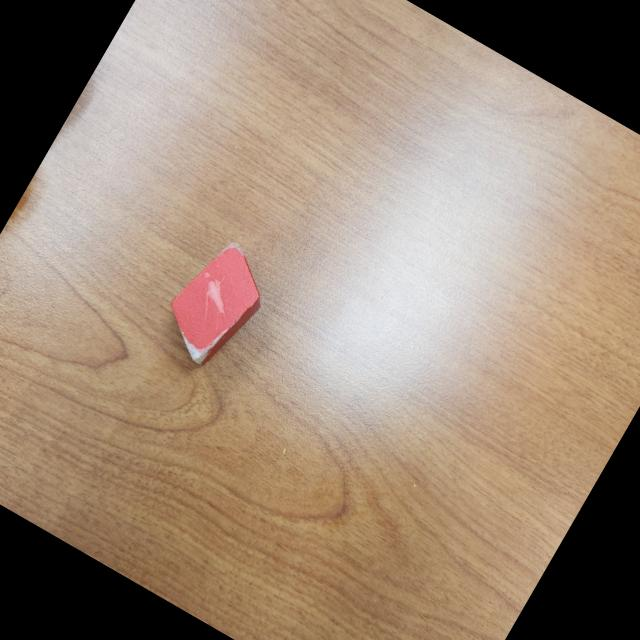broken: (152, 228, 284, 377)
